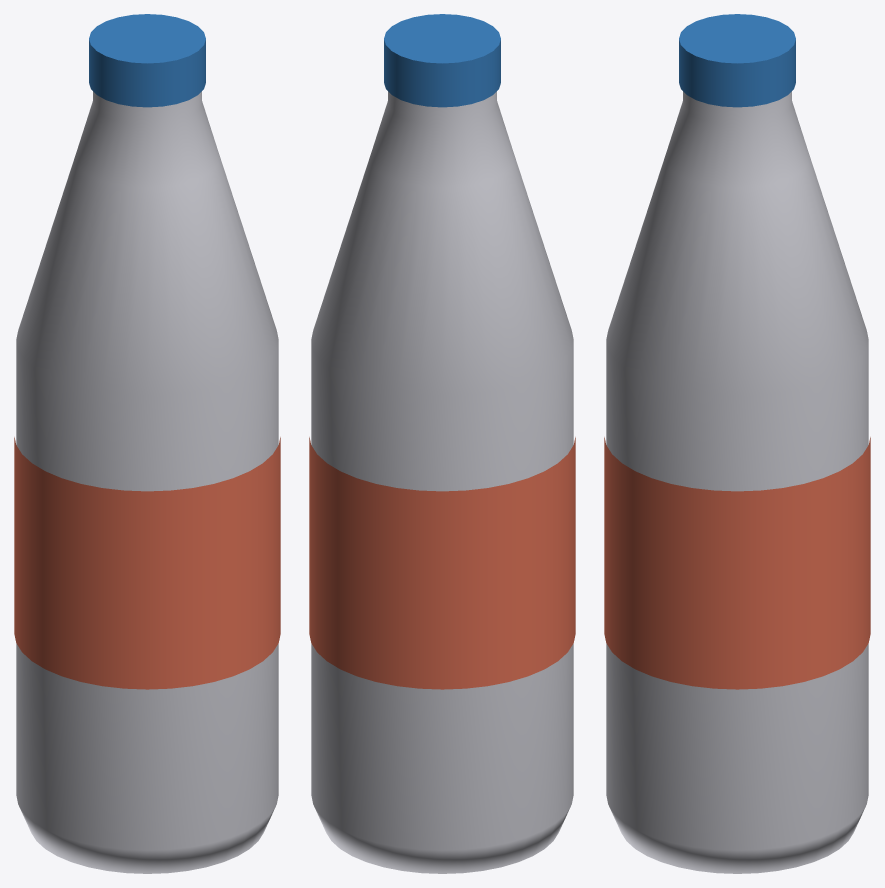
File: Stock__ManualShelfNorth3__Tote014__Goods0.glb
3 views of the same model, side by side, from view 1: azimuth 30°, elevation 25°; view 2: azimuth 150°, elevation 25°; view 3: azimuth 270°, elevation 25° (orthographic).
Parts seen in each view (by area): view 1: /World/Stock/ManualShelfNorth3/Tote014/Goods0/Visual/Polysty, /World/Stock/ManualShelfNorth3/Tote014/Goods0/Visual/Printed, /World/Stock/ManualShelfNorth3/Tote014/Goods0/Visual/Plastic; view 2: /World/Stock/ManualShelfNorth3/Tote014/Goods0/Visual/Polysty, /World/Stock/ManualShelfNorth3/Tote014/Goods0/Visual/Printed, /World/Stock/ManualShelfNorth3/Tote014/Goods0/Visual/Plastic; view 3: /World/Stock/ManualShelfNorth3/Tote014/Goods0/Visual/Polysty, /World/Stock/ManualShelfNorth3/Tote014/Goods0/Visual/Printed, /World/Stock/ManualShelfNorth3/Tote014/Goods0/Visual/Plastic.
Boxes of the visible parts, <box> form: /World/Stock/ManualShelfNorth3/Tote014/Goods0/Visual/Polysty: <box>16,91,278,873</box>; /World/Stock/ManualShelfNorth3/Tote014/Goods0/Visual/Printed: <box>14,437,280,689</box>; /World/Stock/ManualShelfNorth3/Tote014/Goods0/Visual/Plastic: <box>89,14,205,107</box>; /World/Stock/ManualShelfNorth3/Tote014/Goods0/Visual/Polysty: <box>311,91,573,873</box>; /World/Stock/ManualShelfNorth3/Tote014/Goods0/Visual/Printed: <box>309,437,575,689</box>; /World/Stock/ManualShelfNorth3/Tote014/Goods0/Visual/Plastic: <box>384,14,500,107</box>; /World/Stock/ManualShelfNorth3/Tote014/Goods0/Visual/Polysty: <box>606,91,868,873</box>; /World/Stock/ManualShelfNorth3/Tote014/Goods0/Visual/Printed: <box>604,437,870,689</box>; /World/Stock/ManualShelfNorth3/Tote014/Goods0/Visual/Plastic: <box>679,14,795,107</box>.
Bounding box in the file's own units: 0.066 × 0.2165 × 0.066.
